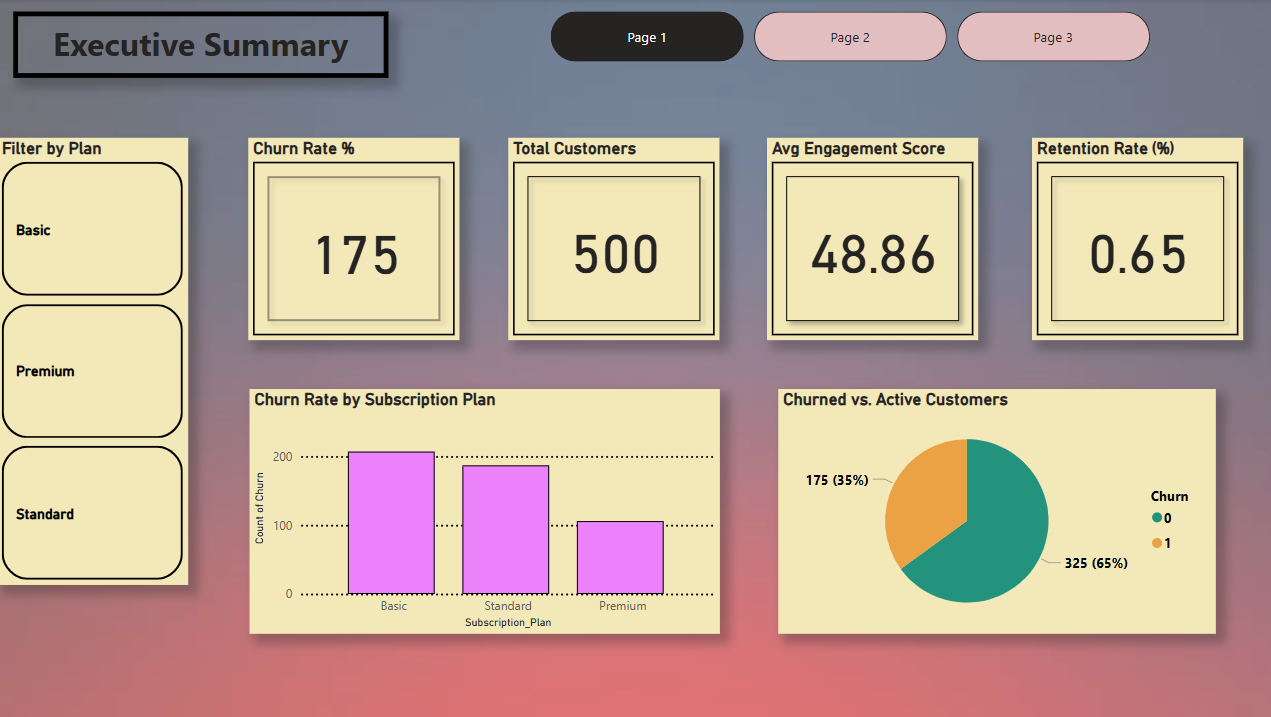

Layout of this report page (visuals, bound fields, positions):
{"tool":"powerbi","page":{"name":"Page 1","canvas":[1280,720],"ordinal":0},"visuals":[{"type":"cardVisual","title":"Total Customers","fields":{"Data":["churn_prediction_dataset.Total-customer"]},"box":[511.2,138.8,211.2,202.5],"z":0},{"type":"cardVisual","title":"Churn Rate %","fields":{"Data":["Sum(churn_prediction_dataset.Churn)"]},"box":[251.2,138.8,211.2,202.5],"z":1000},{"type":"advancedSlicerVisual","title":"Filter by Plan","fields":{"Values":["churn_prediction_dataset.Subscription_Plan"]},"box":[0,138.8,191.2,447.5],"z":2000},{"type":"cardVisual","title":"Avg Engagement Score","fields":{"Data":["Avg(churn_prediction_dataset.Engagement_Score)"]},"box":[770,138.8,211.2,202.5],"z":3000},{"type":"textbox","box":[16.2,12.5,375,66.2],"z":4000},{"type":"cardVisual","title":"Retention Rate (%)","fields":{"Data":["churn_prediction_dataset.Retention Rate (%)"]},"box":[1035,138.8,211.2,202.5],"z":5000},{"type":"columnChart","title":"Churn Rate by Subscription Plan","fields":{"Y":["CountNonNull(churn_prediction_dataset.Churn)"],"Category":["churn_prediction_dataset.Subscription_Plan"]},"box":[252.5,390,470,245],"z":6000},{"type":"pieChart","title":"Churned vs. Active Customers","fields":{"Y":["CountNonNull(churn_prediction_dataset.Customer_ID)"],"Category":["churn_prediction_dataset.Churn"]},"box":[781.2,390,437.5,245],"z":7000},{"type":"pageNavigator","box":[553.8,12.5,600,50],"z":7002}]}

Visuals, with their boxes in screenshot pixels (x1, y1, x2, y2), scaled from the page's 1280x720 canvas onto the 1271x717 screenshot:
"Total Customers" cardVisual: [x1=508, y1=138, x2=717, y2=340]
"Churn Rate %" cardVisual: [x1=249, y1=138, x2=459, y2=340]
"Filter by Plan" advancedSlicerVisual: [x1=0, y1=138, x2=190, y2=584]
"Avg Engagement Score" cardVisual: [x1=765, y1=138, x2=974, y2=340]
textbox: [x1=16, y1=12, x2=388, y2=78]
"Retention Rate (%)" cardVisual: [x1=1028, y1=138, x2=1237, y2=340]
"Churn Rate by Subscription Plan" columnChart: [x1=251, y1=388, x2=717, y2=632]
"Churned vs. Active Customers" pieChart: [x1=776, y1=388, x2=1210, y2=632]
pageNavigator: [x1=550, y1=12, x2=1146, y2=62]
